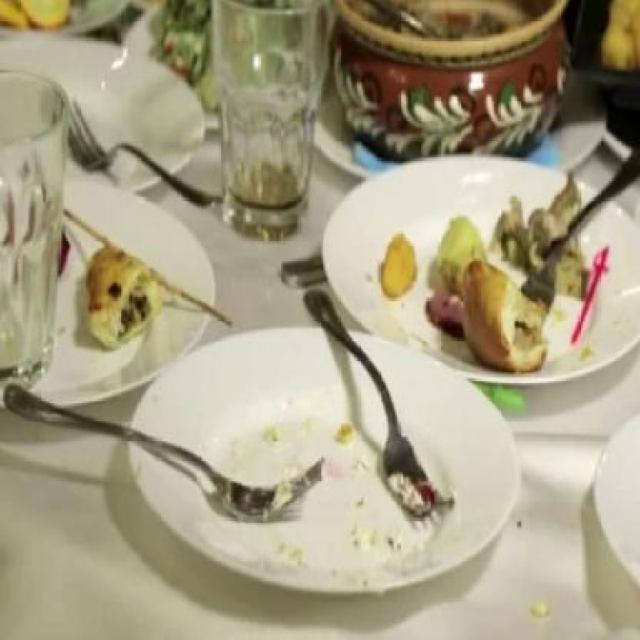Glass: (211, 3, 317, 239), (0, 68, 68, 383)
Plate: (126, 329, 522, 600), (327, 154, 636, 389), (54, 189, 214, 406), (8, 38, 200, 198), (594, 405, 637, 617)
